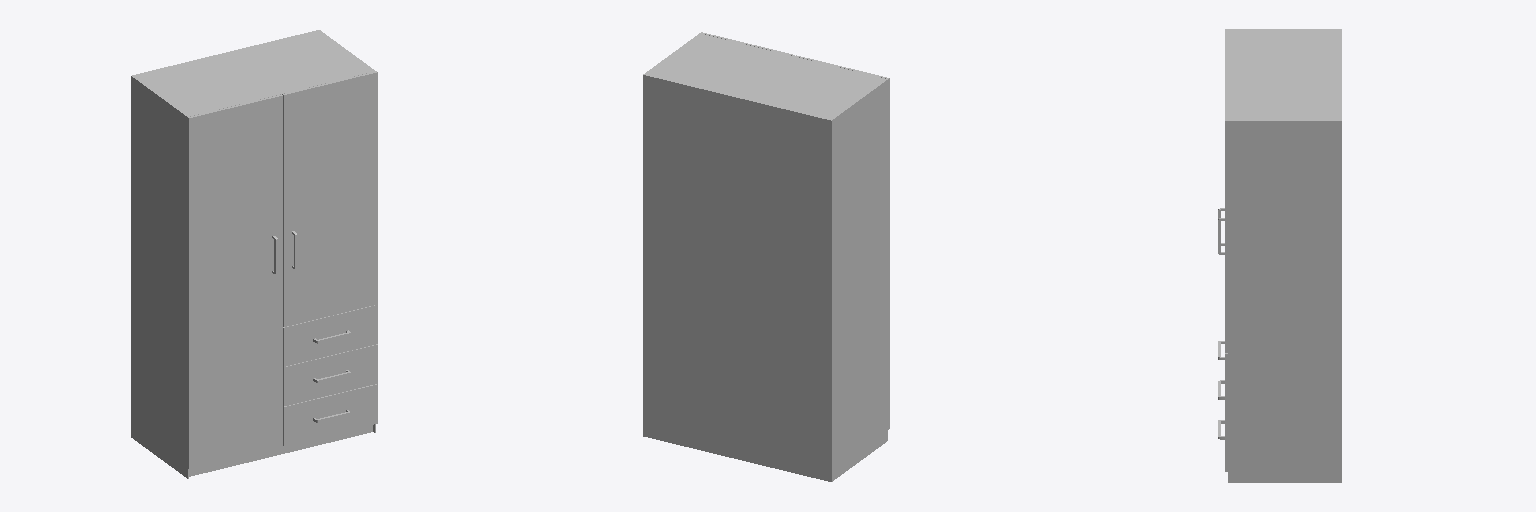
The model's file is HAGENDRUP.obj.
3 renders of one model, left to right at view 1: azimuth 30°, elevation 25°; view 2: azimuth 150°, elevation 25°; view 3: azimuth 270°, elevation 25°, orthographic.
Visible parts, largest first — view 1: Куб.010_Куб.017, Куб.014_Куб.016; view 2: Куб.010_Куб.017; view 3: Куб.010_Куб.017.
Part boxes in pixels (x1,y1,x2,y2): Куб.010_Куб.017: (131, 30, 377, 478); Куб.014_Куб.016: (272, 231, 350, 422); Куб.010_Куб.017: (643, 32, 889, 481); Куб.010_Куб.017: (1225, 29, 1341, 482).
Size of the model in its own units: 1.92 by 3.52 by 1.09.